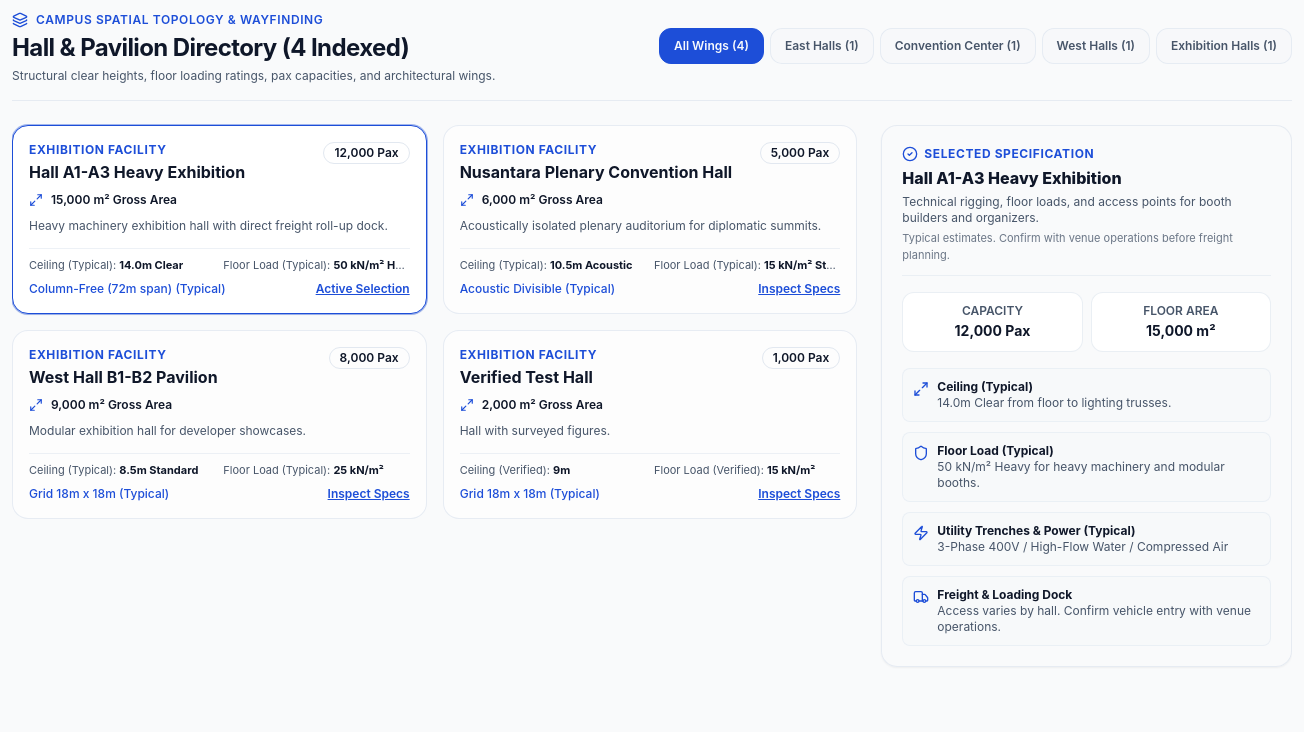
Test: VenueCampusExplorer Component › renders verified figures with a Verified tag instead of the heuristic
Click the heading "Verified Test Hall" at [528, 377], box [460,365,597,389]
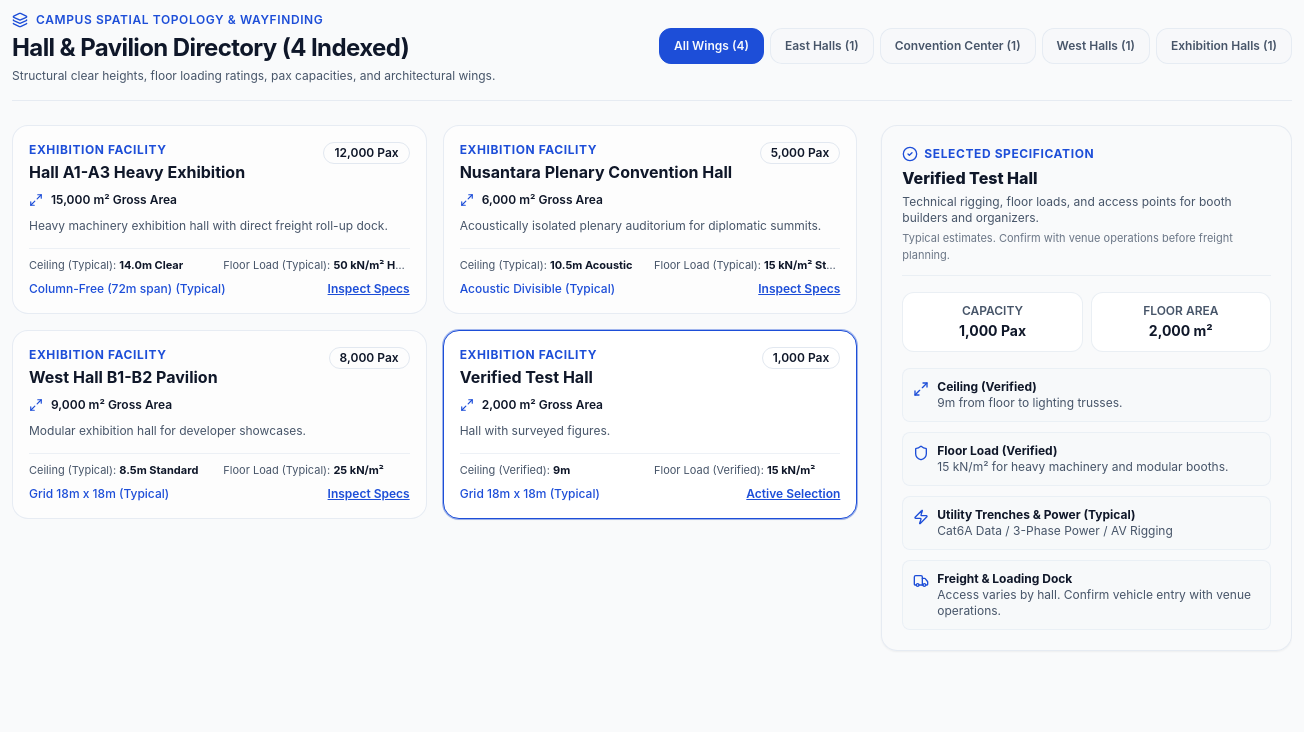
Result: the text "9m from floor to lighting trusses." is shown at [937,395,1122,410]
Result: the text "15 kN/m² for heavy machinery and modular booths." is shown at [937,459,1228,474]
